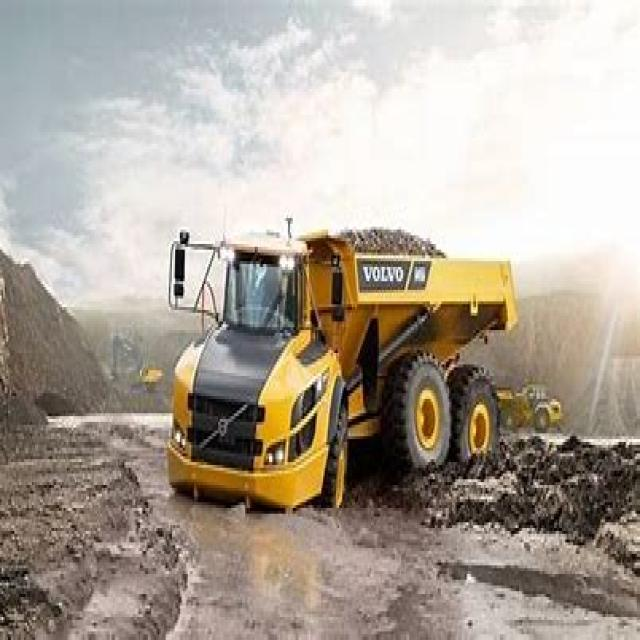dump_truck: (153, 189, 514, 511)
